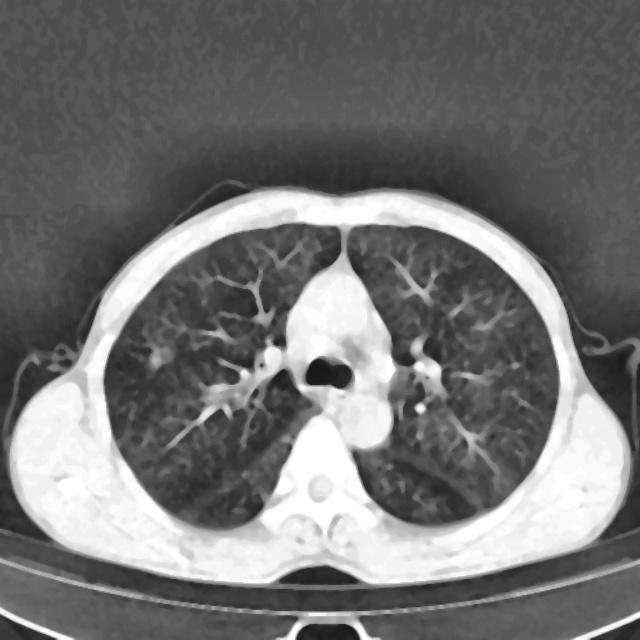covid: (5, 180, 634, 587)
